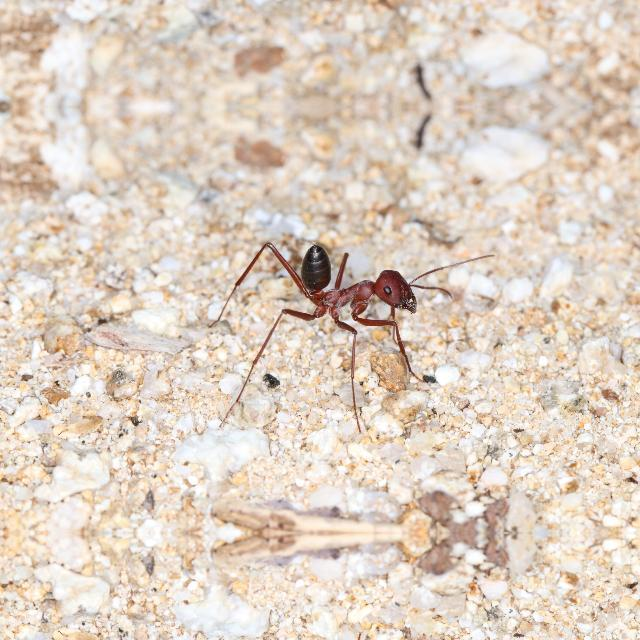Cataglyphis: (262, 234, 450, 344)
